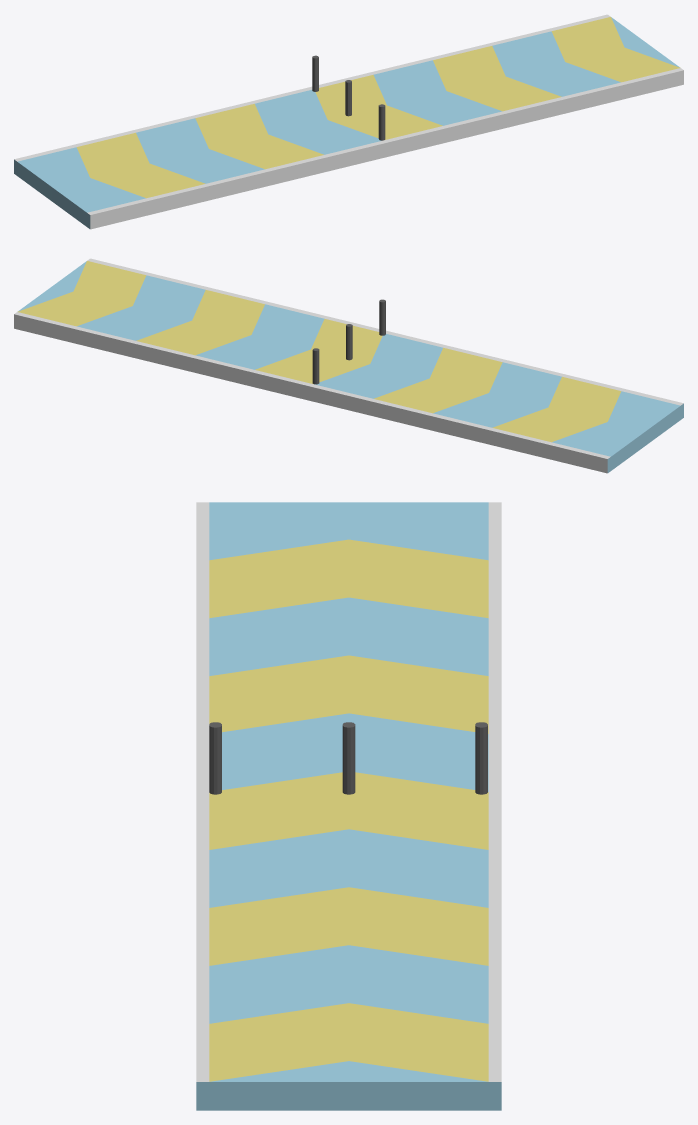
The model's file is ground04.fbx.
3 views of the same model, one above another, from view 1: azimuth 30°, elevation 25°; view 2: azimuth 150°, elevation 25°; view 3: azimuth 270°, elevation 25° (orthographic). The views are drawn at different scales.
Parts seen in each view (by area): view 1: ground04; view 2: ground04; view 3: ground04.
Boxes of the visible parts, x1,y1,x2,y2 form: ground04: (14, 14, 683, 229); ground04: (14, 258, 683, 473); ground04: (196, 502, 501, 1110).
Size of the model in its own units: 782 by 60.26 by 174.
